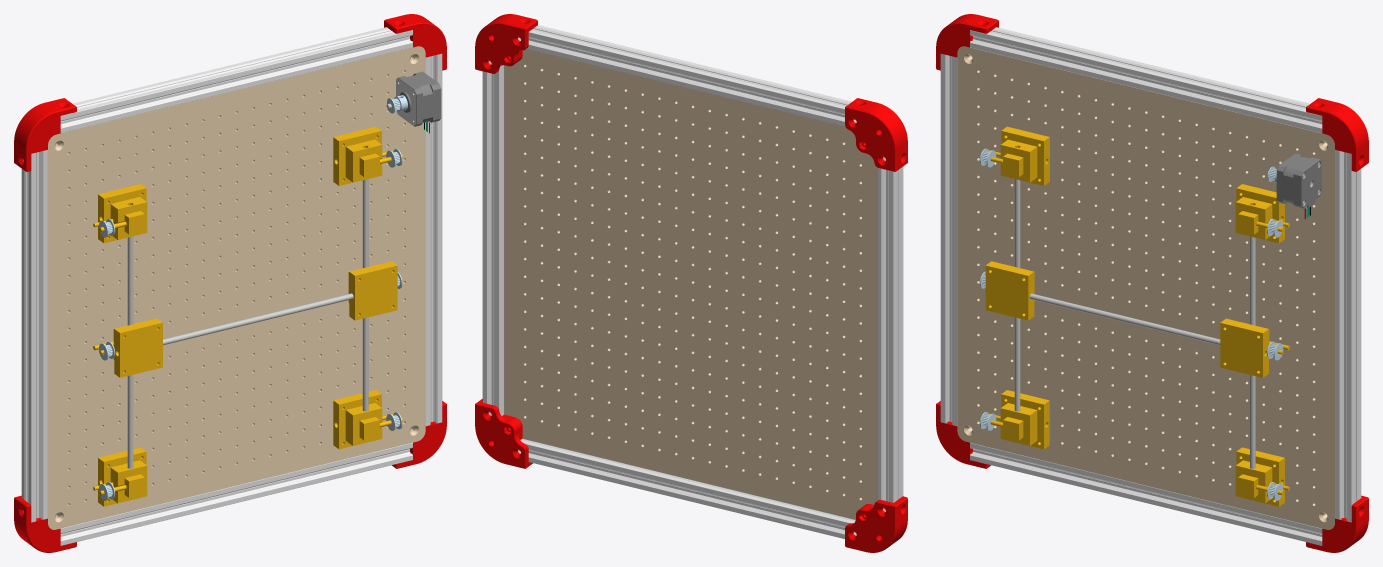
The model's file is Machine That Draw.glb.
3 renders of one model, left to right at view 1: azimuth 30°, elevation 25°; view 2: azimuth 150°, elevation 25°; view 3: azimuth 330°, elevation 25°, orthographic.
Visible parts, largest first — view 1: Plateau, V-Slot Linear Rail 20x20mm (×4), Part 5 (×6), Part 2 (×4), Rod (×3), 17HE12-1204S; view 2: Plateau, V-Slot Linear Rail 20x20mm (×4), Part 2 (×4); view 3: Plateau, V-Slot Linear Rail 20x20mm (×4), Part 5 (×6), Part 2 (×4), Rod (×3), 17HE12-1204S.
Part boxes in pixels (bbox=[...]): Plateau: bbox=[48, 46, 425, 529]; V-Slot Linear Rail 20x20mm (×4): bbox=[21, 27, 442, 545]; Part 5 (×6): bbox=[93, 126, 402, 506]; Part 2 (×4): bbox=[14, 14, 446, 552]; Rod (×3): bbox=[127, 179, 368, 468]; 17HE12-1204S: bbox=[386, 71, 441, 126]; Plateau: bbox=[504, 49, 876, 519]; V-Slot Linear Rail 20x20mm (×4): bbox=[482, 25, 903, 538]; Part 2 (×4): bbox=[475, 14, 907, 552]; Plateau: bbox=[957, 46, 1334, 529]; V-Slot Linear Rail 20x20mm (×4): bbox=[940, 27, 1361, 545]; Part 5 (×6): bbox=[980, 126, 1289, 506]; Part 2 (×4): bbox=[936, 14, 1368, 552]; Rod (×3): bbox=[1014, 179, 1255, 468]; 17HE12-1204S: bbox=[1267, 153, 1321, 208].
Bounding box in the file's own units: 0.502 × 0.502 × 0.0767.
